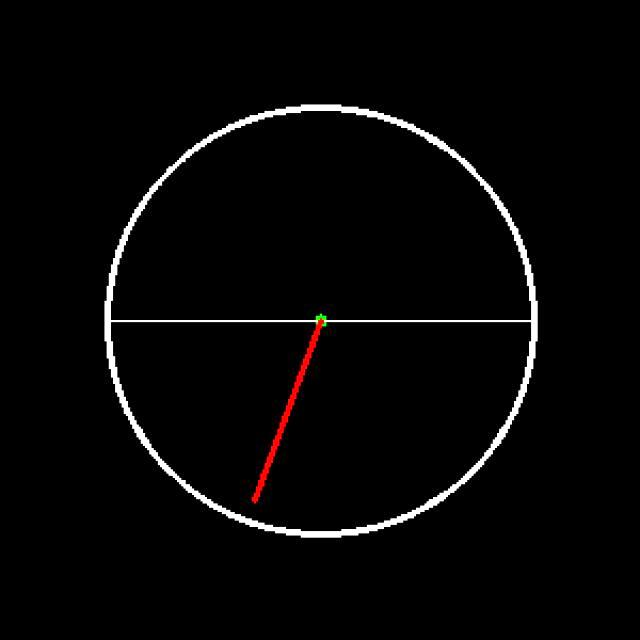Needle_Tip: (236, 469, 277, 516)
Needle_base: (285, 299, 358, 361)
